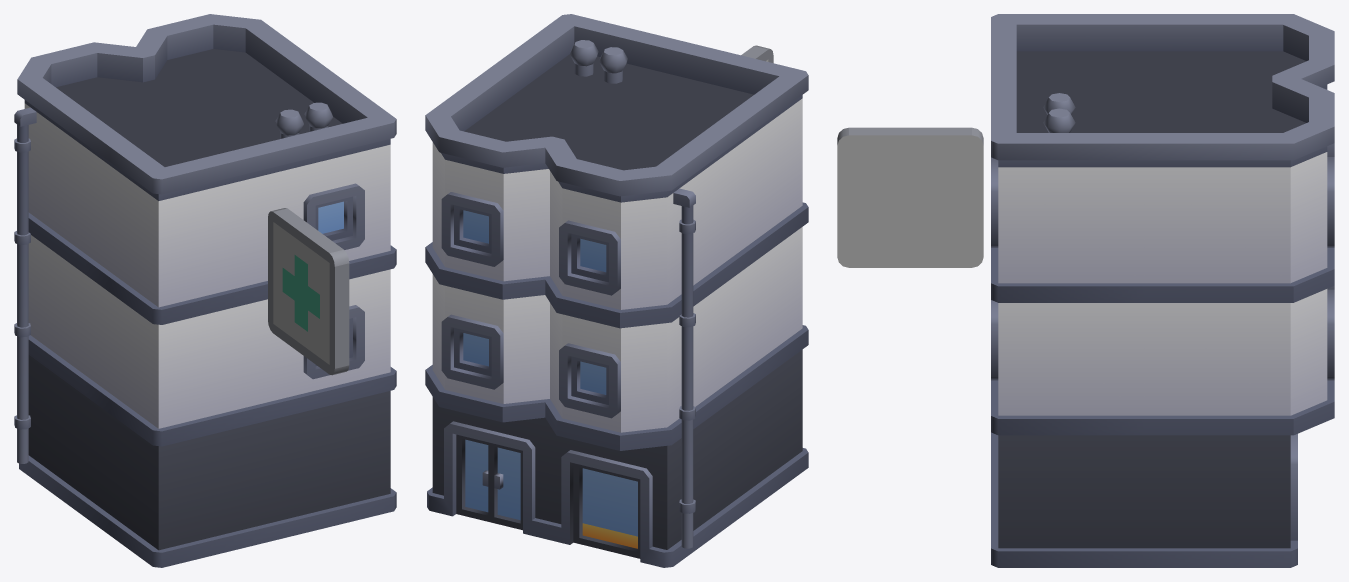
The model's file is clinic.glb.
The picture shows the model from 3 angles, left to right: view 1: azimuth 30°, elevation 25°; view 2: azimuth 150°, elevation 25°; view 3: azimuth 270°, elevation 25°; orthographic projection. The views are drawn at different scales.
Visible parts, largest first — view 1: building-a, sign_hospital; view 2: building-a; view 3: building-a, sign_hospital.
Boxes of the visible parts, x1,y1,x2,y2 form: building-a: (14, 14, 396, 567); sign_hospital: (268, 208, 349, 375); building-a: (425, 14, 808, 567); building-a: (991, 14, 1334, 567); sign_hospital: (837, 127, 983, 267).
Bounding box in the file's own units: 0.8836 × 1.29 × 1.36.
Materials: 4 (1 with a texture image).
